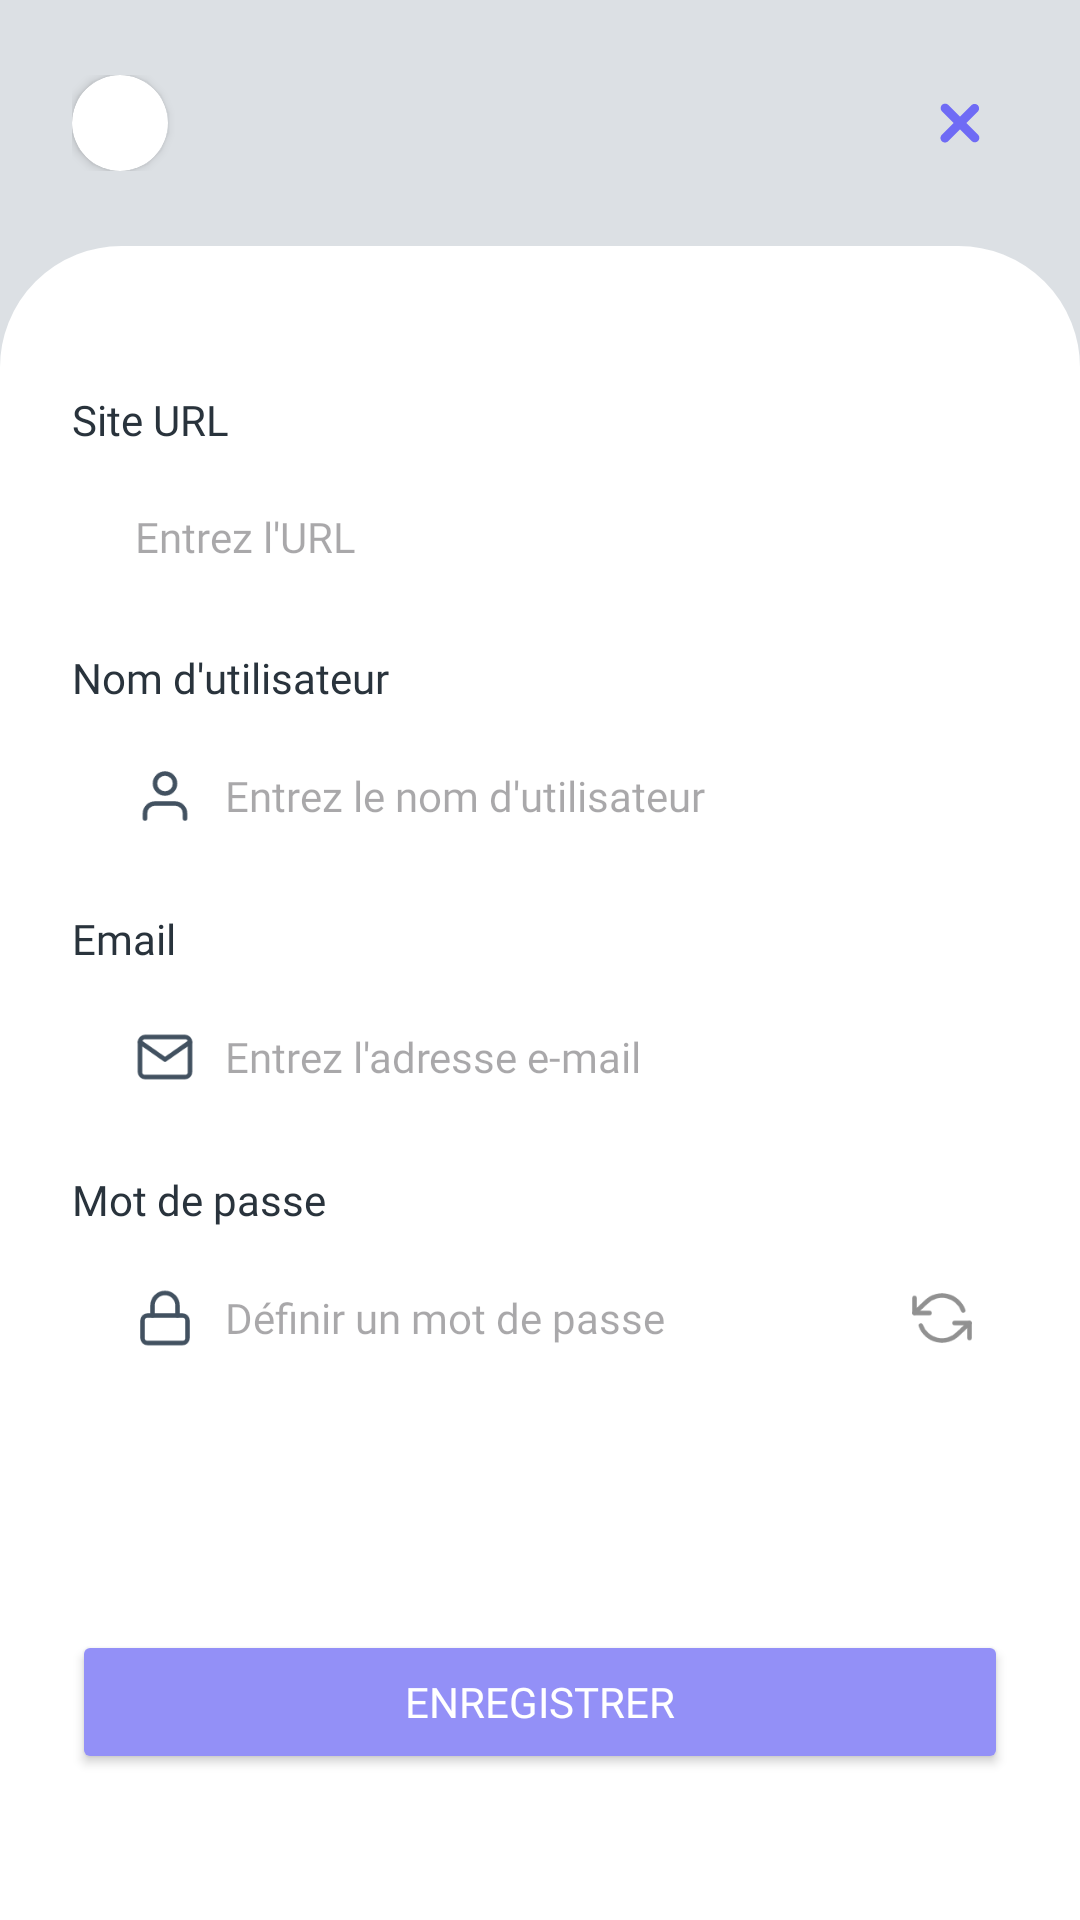

Icon bounding boxes for this 1080x1920 phone screenshot, format bbox=[x1, y1, x2, y2]:
close: bbox=[940, 103, 980, 143]
refresh ccw: bbox=[912, 1293, 972, 1343]
